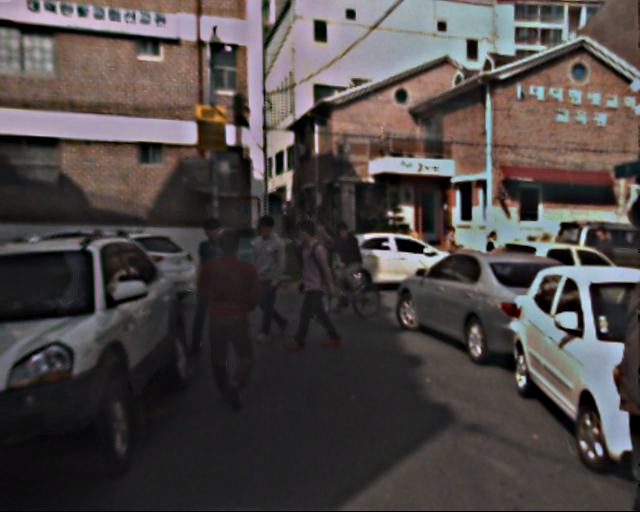person: (194, 234, 267, 411), (186, 218, 243, 356), (286, 222, 339, 351), (241, 214, 293, 342), (330, 218, 363, 298), (589, 226, 618, 296), (483, 229, 508, 289), (439, 225, 464, 285)
